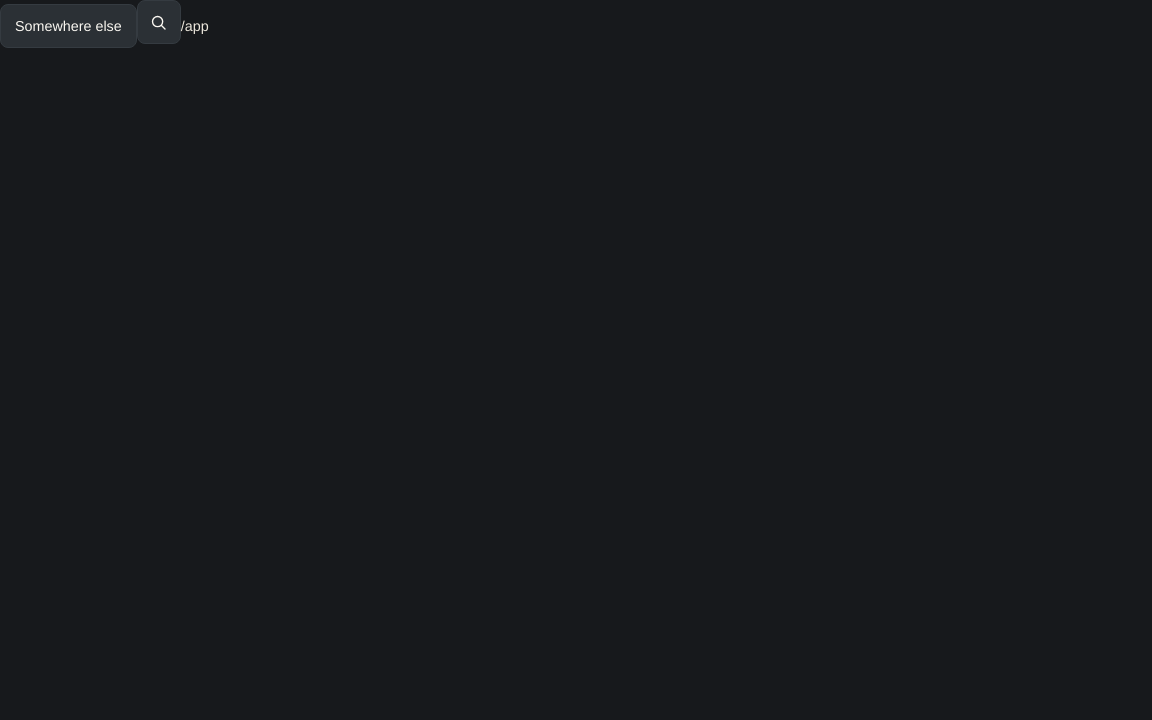
Test: CommandBar (#351) › says so when nothing matches
The image size is (1152, 720).
Press k
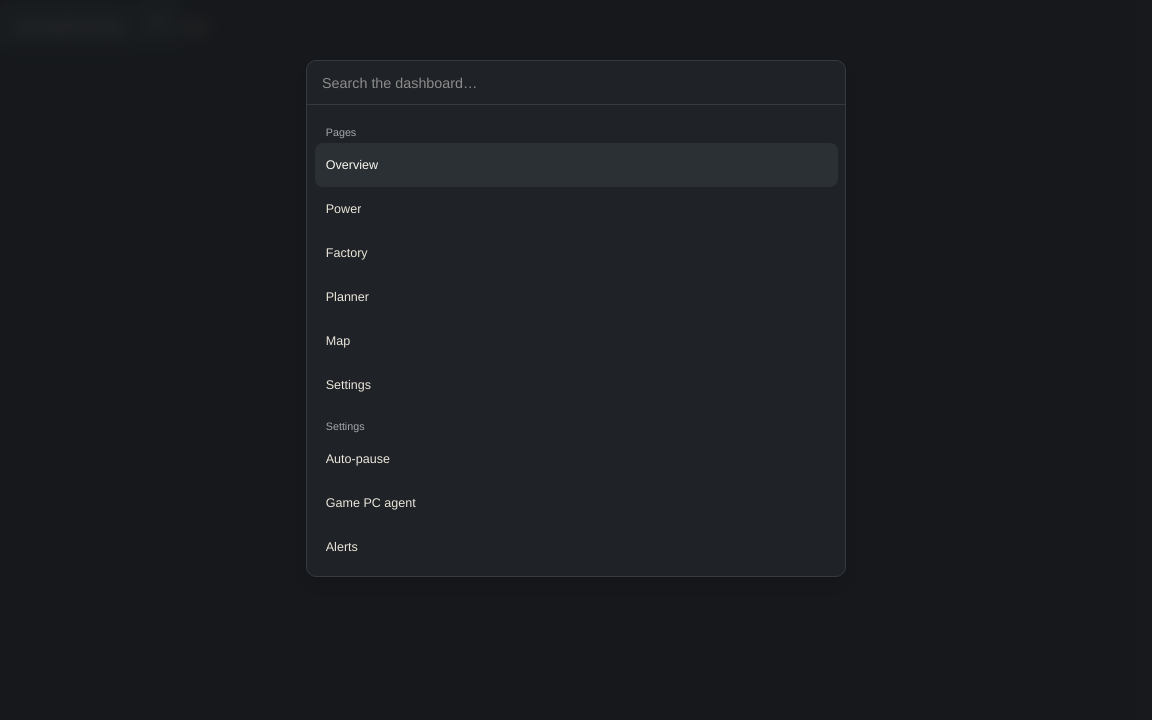
In the dropdown: (576,83) x1=307 y1=61 x2=845 y2=105, type "zzzz-no-such-thing"
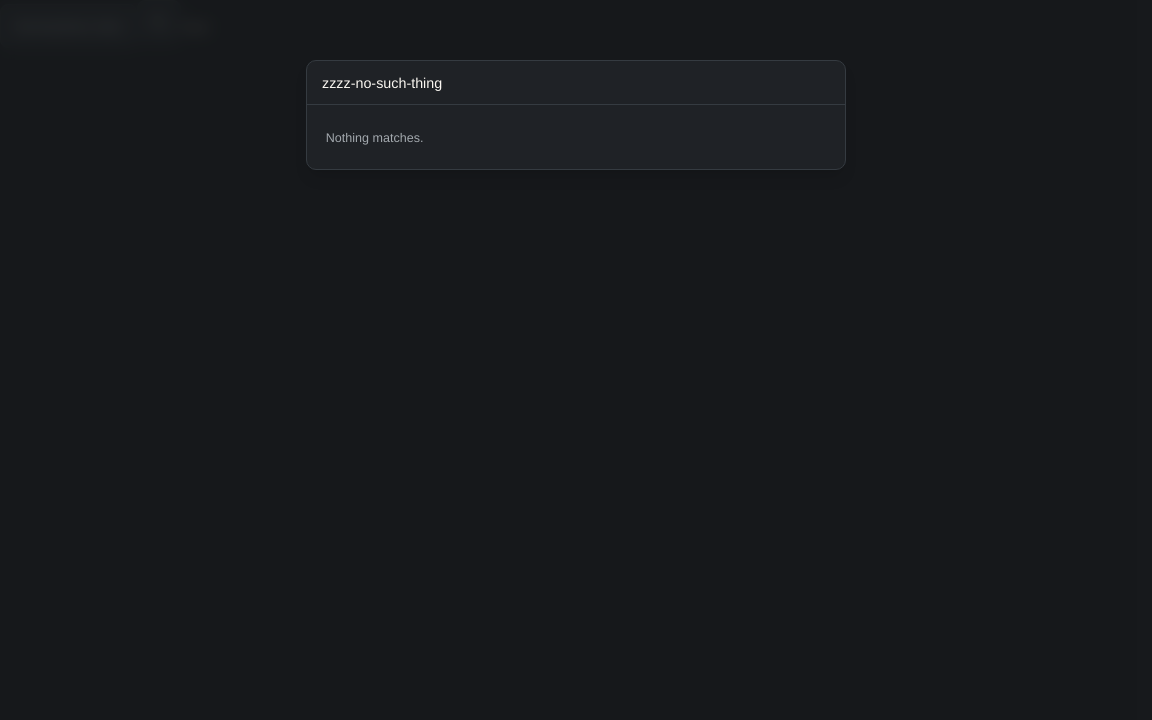
Expected: the text "Nothing matches." is shown, x1=326 y1=128 x2=423 y2=144
